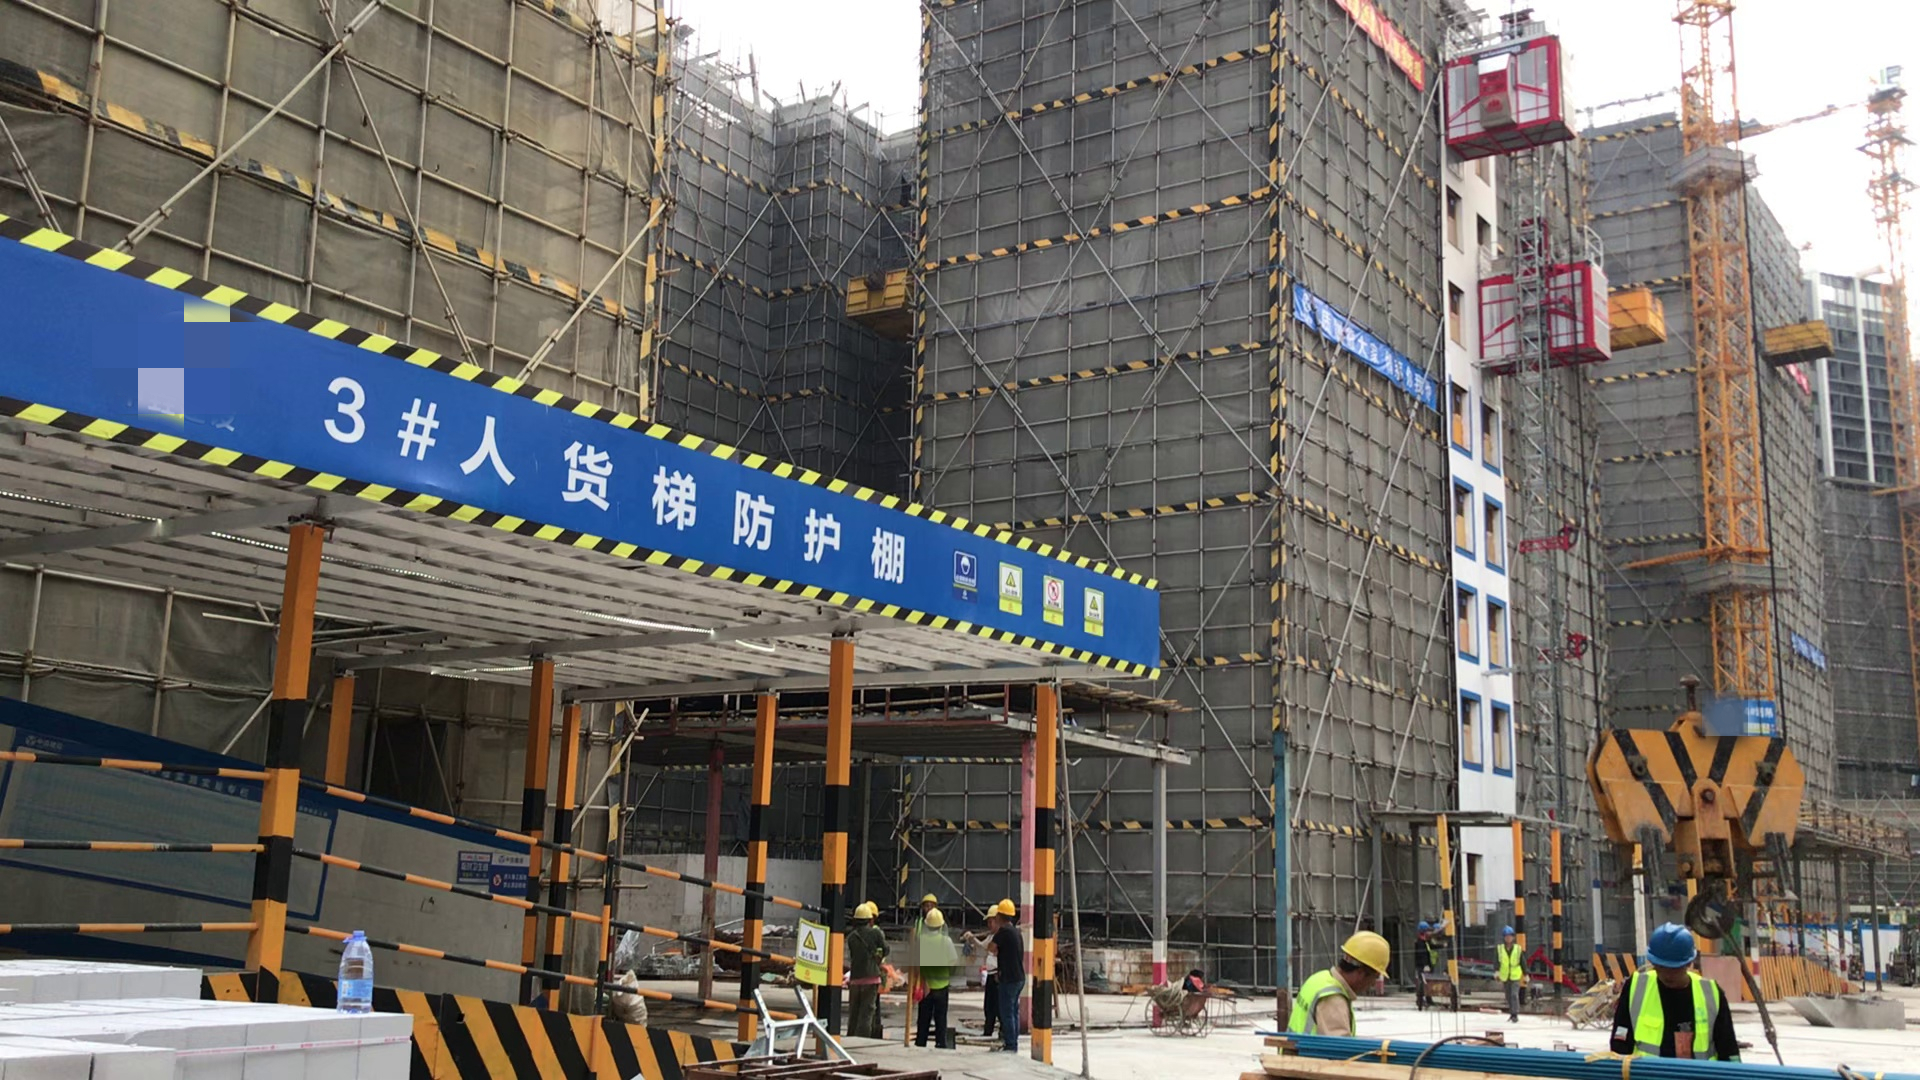helmet: (1342, 927, 1391, 981), (1648, 924, 1696, 973), (924, 907, 947, 934), (996, 900, 1015, 922), (853, 903, 877, 922), (917, 890, 940, 903), (1500, 924, 1518, 941), (1416, 920, 1437, 933)
person: (1623, 921, 1741, 1064), (1286, 924, 1393, 1036), (913, 892, 953, 1050), (985, 899, 1026, 1052), (849, 897, 885, 1041), (1489, 922, 1528, 1025), (1412, 918, 1449, 969)
vest: (1628, 969, 1717, 1058), (1288, 972, 1357, 1037), (1495, 941, 1524, 981)
